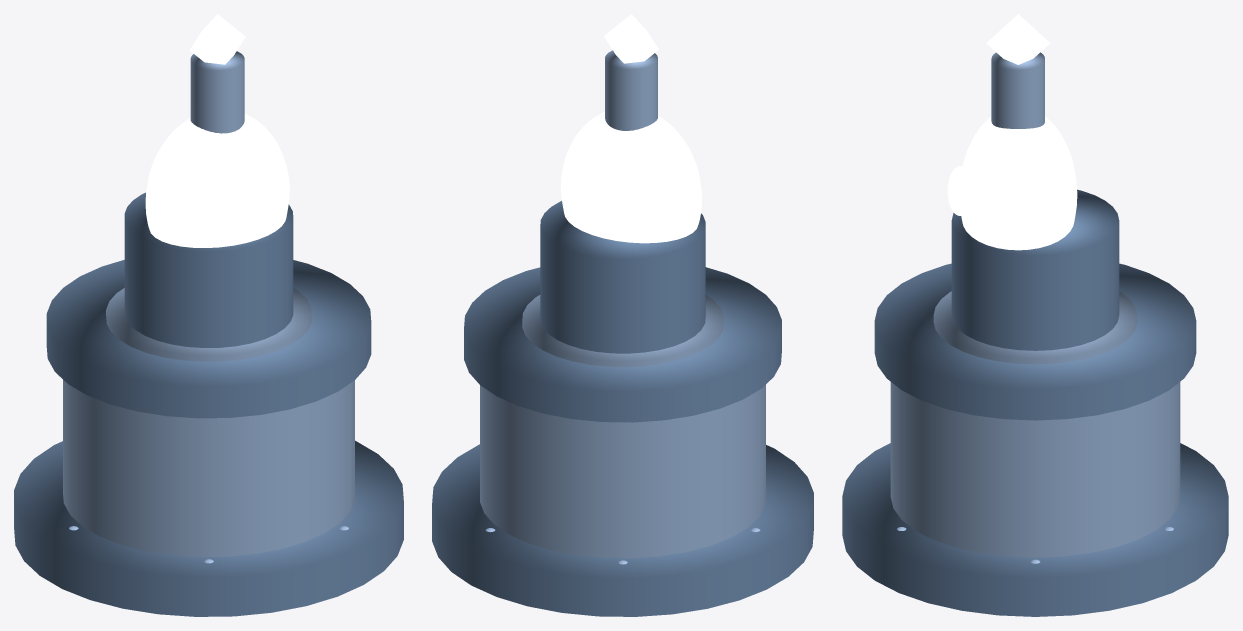
File: poison_l4.glb
3 views of the same model, side by side, from view 1: azimuth 30°, elevation 25°; view 2: azimuth 150°, elevation 25°; view 3: azimuth 270°, elevation 25° (orthographic). The views are drawn at different scales.
Parts seen in each view (by area): view 1: base, footing, baseCollar, shaft, vial, lowerTrim, neck, cap, ember; view 2: base, footing, baseCollar, shaft, vial, lowerTrim, neck, cap; view 3: base, footing, baseCollar, shaft, vial, lowerTrim, neck, cap, ember.
Part boxes in pixels (left/top/right/bottom): base: left=63, top=380, right=354, bottom=556; footing: left=14, top=440, right=403, bottom=616; baseCollar: left=46, top=260, right=371, bottom=418; shaft: left=124, top=192, right=293, bottom=347; vial: left=145, top=114, right=289, bottom=247; lowerTrim: left=106, top=288, right=311, bottom=361; neck: left=190, top=51, right=244, bottom=133; cap: left=189, top=14, right=245, bottom=64; ember: left=227, top=190, right=266, bottom=238; base: left=480, top=384, right=765, bottom=558; footing: left=432, top=444, right=813, bottom=616; baseCollar: left=464, top=267, right=781, bottom=422; shaft: left=540, top=201, right=705, bottom=353; vial: left=560, top=111, right=702, bottom=243; lowerTrim: left=522, top=295, right=723, bottom=366; neck: left=605, top=50, right=657, bottom=130; cap: left=604, top=14, right=658, bottom=63; base: left=890, top=382, right=1180, bottom=557; footing: left=842, top=443, right=1228, bottom=616; baseCollar: left=874, top=263, right=1196, bottom=420; shaft: left=951, top=189, right=1119, bottom=350; vial: left=961, top=116, right=1077, bottom=250; lowerTrim: left=933, top=291, right=1137, bottom=364; neck: left=991, top=52, right=1044, bottom=128; cap: left=986, top=14, right=1050, bottom=64; ember: left=947, top=166, right=962, bottom=215.
Size of the model in its own units: 1.8 by 2.68 by 1.8.
